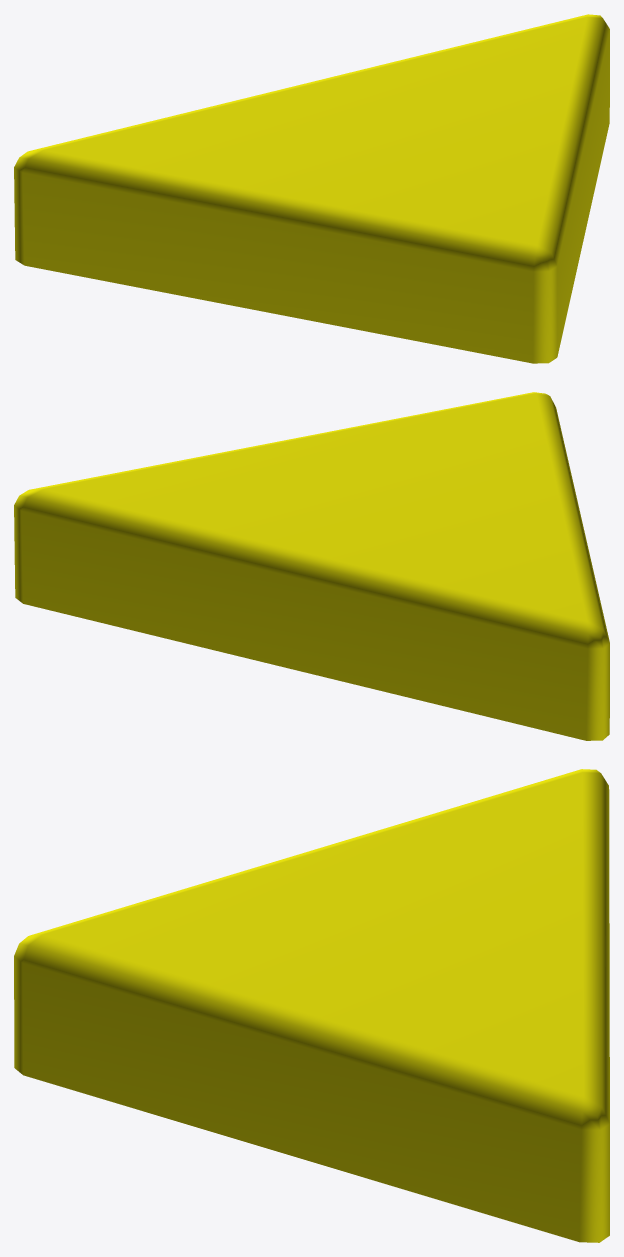
Rendered from arrow.fbx.
The picture shows the model from 3 angles, top to bottom: view 1: azimuth 30°, elevation 25°; view 2: azimuth 150°, elevation 25°; view 3: azimuth 270°, elevation 25°; orthographic projection. The views are drawn at different scales.
Visible parts, largest first — view 1: arrow_base; view 2: arrow_base; view 3: arrow_base.
Part boxes in pixels (x1,y1,x2,y2): arrow_base: (14, 14, 609, 363); arrow_base: (14, 392, 609, 740); arrow_base: (14, 769, 609, 1242).
Bounding box in the file's own units: 0.2283 × 0.0404 × 0.1637.
